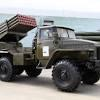MIL_SAM_TEL: (0, 14, 100, 91)
